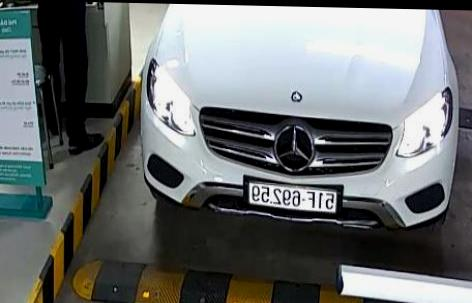License_Plate: (243, 181, 339, 208)
